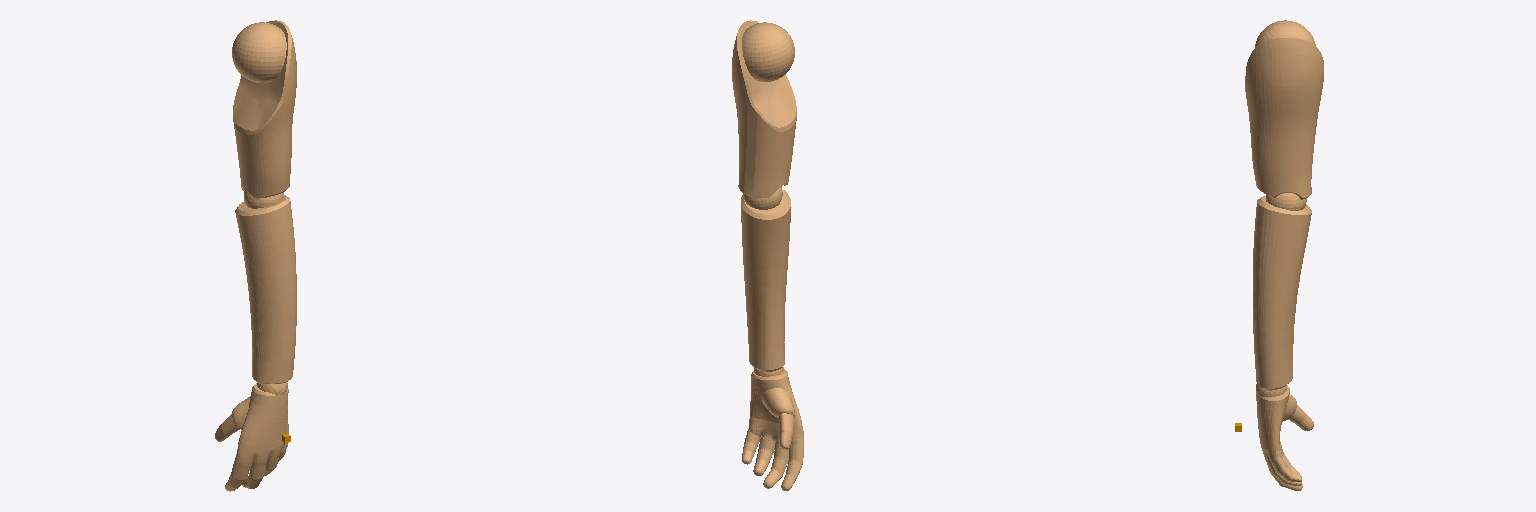
The robot description file, URDF, robot "left_arm":
<?xml version="1.0" ?>
<robot name="left_arm">

  <material name="skin">
    <color rgba="0.9 0.72 0.53 1.000"/>
  </material>

  <link name="base_link">
    <inertial>
      <origin xyz="0.0 0.0 0.0" rpy="0 0 0"/>
      <mass value="0.0"/>
      <inertia ixx="0.0" iyy="0.0" izz="0.0" ixy="0.0" iyz="0.0" ixz="0.0"/>
    </inertial>
  </link>

  <joint name="base_fixed" type="fixed">
    <origin rpy="0 0 0.0" xyz="0 0 0.0"/>
    <parent link="base_link"/>
    <child link="base_link_0"/>
  </joint>

  <link name="base_link_0">
    <inertial>
      <origin xyz="0.0 0.0 0.0" rpy="0 0 0"/>
      <mass value="0.0"/>
      <inertia ixx="0.0" iyy="0.0" izz="0.0" ixy="0.0" iyz="0.0" ixz="0.0"/>
    </inertial>
  </link>

  <link name="base_link_1">
    <inertial>
      <origin xyz="0.0 0.0 0.0" rpy="0 0 0"/>
      <mass value="0.0"/>
      <inertia ixx="0.0" iyy="0.0" izz="0.0" ixy="0.0" iyz="0.0" ixz="0.0"/>
    </inertial>
  </link>

  <link name="base_link_2">
    <inertial>
      <origin xyz="0.0 0.0 0.0" rpy="0 0 0"/>
      <mass value="0.0"/>
      <inertia ixx="0.0" iyy="0.0" izz="0.0" ixy="0.0" iyz="0.0" ixz="0.0"/>
    </inertial>
  </link>

    <link name="hand_x">
    <inertial>
      <origin xyz="0.0 0.0 0.0" rpy="0 0 0"/>
      <mass value="0.0"/>
      <inertia ixx="0.0" iyy="0.0" izz="0.0" ixy="0.0" iyz="0.0" ixz="0.0"/>
    </inertial>
  </link>

  <link name="upper_arm">
    <inertial>
      <origin xyz="0.00276866 -0.00352308 -0.0980035" rpy="0 0 0"/>
      <mass value="1.0"/>
      <inertia ixx="0.00690642" iyy="0.0067379" izz="0.000968606" ixy="-6.65745e-06" iyz="-7.0718e-05" ixz="-0.000150803"/>
    </inertial>
    <visual>
      <origin xyz="0 0 0" rpy="0 0 0"/>
      <geometry>
        <mesh filename="meshes/left_upper_arm.stl" scale="1.0 1.0 1.0"/>
      </geometry>
      <material name="skin"/>
    </visual>
    <collision>
      <origin xyz="0 0 0" rpy="0 0 0"/>
      <geometry>
        <mesh filename="meshes/left_upper_arm.stl" scale="1.0 1.0 1.0"/>
      </geometry>
    </collision>
  </link>

  <link name="lower_arm">
    <inertial>
      <origin xyz="0.0140577 0.00436711 -0.129359" rpy="0 0 0"/>
      <mass value="1.0"/>
      <inertia ixx="0.00702311" iyy="0.00702943" izz="0.000642936" ixy="-4.9513e-05" iyz="0.000167785" ixz="0.000354792"/>
    </inertial>
    <visual>
      <origin xyz="0.0 0.0 0.0" rpy="0 0 0"/>
      <geometry>
        <mesh filename="meshes/left_lower_arm_without_hand.stl" scale="1.0 1.0 1.0"/>
      </geometry>
      <material name="skin"/>
    </visual>
    <collision>
      <origin xyz="0.0 0.0 0.0" rpy="0 0 0"/>
      <geometry>
        <mesh filename="meshes/left_lower_arm_without_hand.stl" scale="1.0 1.0 1.0"/>
      </geometry>
    </collision>
  </link>

  <link name="hand">
    <inertial>
      <origin xyz="0.0160511 -0.012319 -0.0752563" rpy="0 0 0"/>
      <mass value="1.0"/>
      <inertia ixx="0.00256313" iyy="0.00225139" izz="0.000742989" ixy="-8.96984e-05" iyz="-0.000249229" ixz="-0.000172654"/>
    </inertial>
    <visual>
      <origin xyz="0.0 0.0 0.0" rpy="0 0 0"/>
      <geometry>
        <mesh filename="meshes/left_hand.stl" scale="1.0 1.0 1.0"/>
      </geometry>
      <material name="skin"/>
    </visual>
    <collision>
      <origin xyz="0.0 0.0 0.0" rpy="0 0 0"/>
      <geometry>
        <mesh filename="meshes/left_hand.stl" scale="1.0 1.0 1.0"/>
      </geometry>
    </collision>
  </link>

  <joint name="base_x" type="continuous">
    <origin xyz="0.0 0.0 0.0" rpy="0 0 0"/>
    <parent link="base_link_0"/>
    <child link="base_link_1"/>
    <axis xyz="-1.0 0.0 0.0"/>
    <!-- <limit effort="100" lower="-1.57" upper="1.57" velocity="5.0"/> -->
  </joint>

  <joint name="base_y" type="continuous">
    <origin xyz="0.0 0.0 0.0" rpy="0 0 0"/>
    <parent link="base_link_1"/>
    <child link="base_link_2"/>
    <axis xyz="0.0 -1.0 0.0"/>
    <!-- <limit effort="100" lower="-1.57" upper="0" velocity="5.0"/> -->
  </joint>

  <joint name="base_z" type="continuous">
    <origin xyz="0.0 0.0 0.0" rpy="0 0 0"/>
    <parent link="base_link_2"/>
    <child link="upper_arm"/>
    <axis xyz="0.0 0.0 1.0"/>
    <!-- <limit effort="100" lower="0.0" upper="1.57" velocity="5.0"/> -->
  </joint>

  <joint name="upper_to_lower" type="continuous">
    <origin xyz="0.0 0.0 -0.24102" rpy="0 0 -1.57"/>
    <parent link="upper_arm"/>
    <child link="lower_arm"/>
    <axis xyz="0.0 -1.0 0.0"/>
    <!-- <limit effort="100" lower="-2.0944" upper="0.0" velocity="5.0"/> -->
  </joint>


  <joint name="lower_to_hand_x" type="continuous">
    <origin xyz="0.0 0.0 -0.296366" rpy="0 0 0"/>
    <parent link="lower_arm"/>
    <child link="hand_x"/>
    <axis xyz="1.0 0.0 0.0"/>
    <!-- <limit effort="100" lower="-2.0944" upper="0.0" velocity="5.0"/> -->
  </joint>


  <joint name="lower_to_hand" type="continuous">
    <origin xyz="0.0 0.0 0.0" rpy="0 0 0"/>
    <parent link="hand_x"/>
    <child link="hand"/>
    <axis xyz="0.0 1.0 0.0"/>
    <!-- <limit effort="100" lower="-2.0944" upper="0.0" velocity="5.0"/> -->
  </joint>



  <joint name="grasp_fixed_joint" type="fixed">
    <parent link="hand"/>
    <child link="ee_link"/>
    <origin rpy="0.0 0.0 0.0" xyz="0.07 0.0 -0.07"/>
  </joint>

  <link name="ee_link">
    <inertial>
      <origin xyz="0.0 0.0 0.0" rpy="0 0 0"/>
      <mass value="0.0"/>
      <inertia ixx="0.0" iyy="0.0" izz="0.0" ixy="0.0" iyz="0.0" ixz="0.0"/>
    </inertial>
    <visual>
      <geometry>
        <box size="0.01 0.01 0.01"/>
      </geometry>
      <origin rpy="0 0 0" xyz="0.0 0 0"/>
    </visual>
  </link>

</robot>

--- What the picture shows (computed from the rendered views, not written in the file) ---
Views: 3 orthographic renders of the robot side by side, from view 1: azimuth 30°, elevation 25°; view 2: azimuth 150°, elevation 25°; view 3: azimuth 270°, elevation 25°.
Robot: left_arm — 9 links, 8 joints (6 continuous, 2 fixed); root link base_link; default pose: all joints at 0.
Visible links, largest first — view 1: upper_arm, lower_arm, hand; view 2: upper_arm, lower_arm, hand; view 3: upper_arm, lower_arm, hand.
Link boxes in pixels (bbox=[...]): upper_arm: bbox=[232, 20, 296, 208]; lower_arm: bbox=[235, 195, 296, 389]; hand: bbox=[215, 383, 288, 491]; upper_arm: bbox=[732, 20, 796, 209]; lower_arm: bbox=[741, 189, 790, 373]; hand: bbox=[742, 368, 803, 490]; upper_arm: bbox=[1245, 20, 1323, 210]; lower_arm: bbox=[1253, 196, 1311, 391]; hand: bbox=[1256, 385, 1313, 490].
Size in the robot's own frame: 0.1109 by 0.1304 by 0.7635 metres.
Meshes: 3 distinct files referenced, 3 mesh visuals loaded (3 binary STL).
